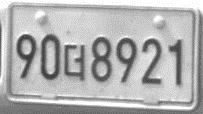0: (40, 33, 60, 80)
1: (167, 39, 185, 86)
2: (139, 37, 163, 85)
8: (91, 36, 112, 82)
9: (14, 33, 37, 79), (115, 36, 137, 83)
더: (62, 42, 86, 81)
